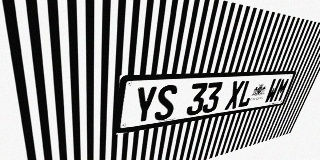3: (186, 83, 208, 116), (201, 82, 223, 114)
L: (237, 80, 257, 108)
M: (273, 78, 290, 102)
S: (154, 84, 178, 121)
W: (264, 78, 282, 104)
X: (224, 80, 245, 110)
Y: (132, 86, 158, 125)
